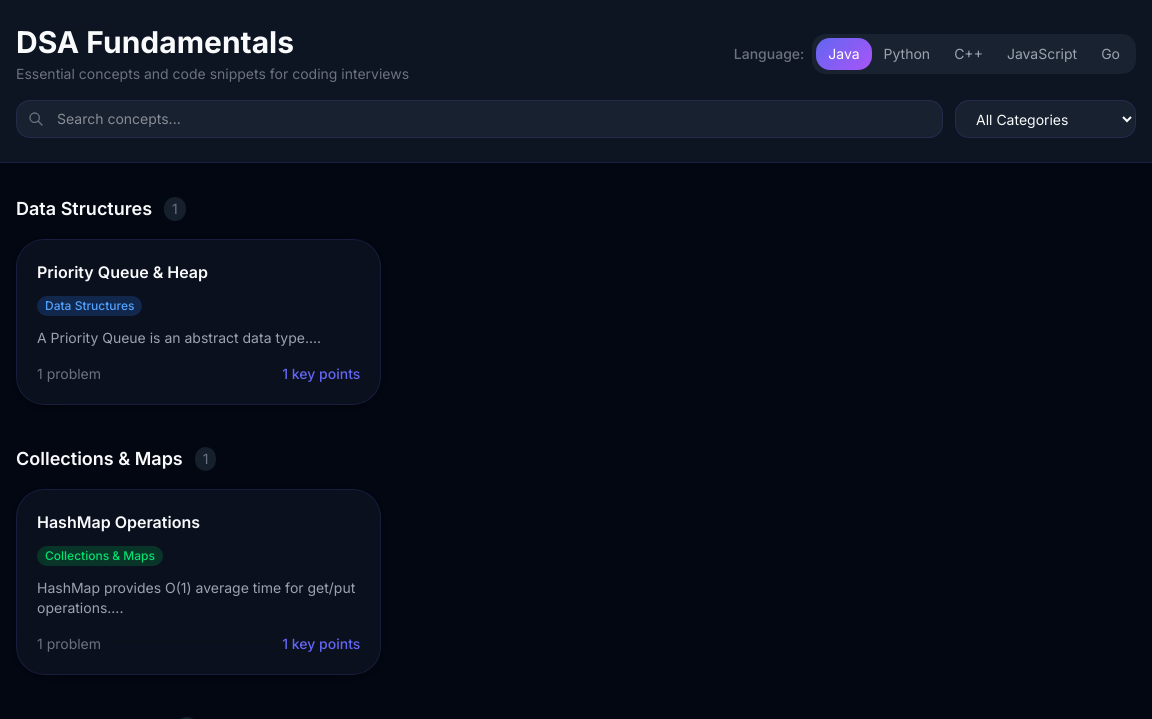
it: DSAFundamentalsClient › filters concepts by category
Select "Data Structures" in the dropdown: (1046, 119) [955,100,1136,138]
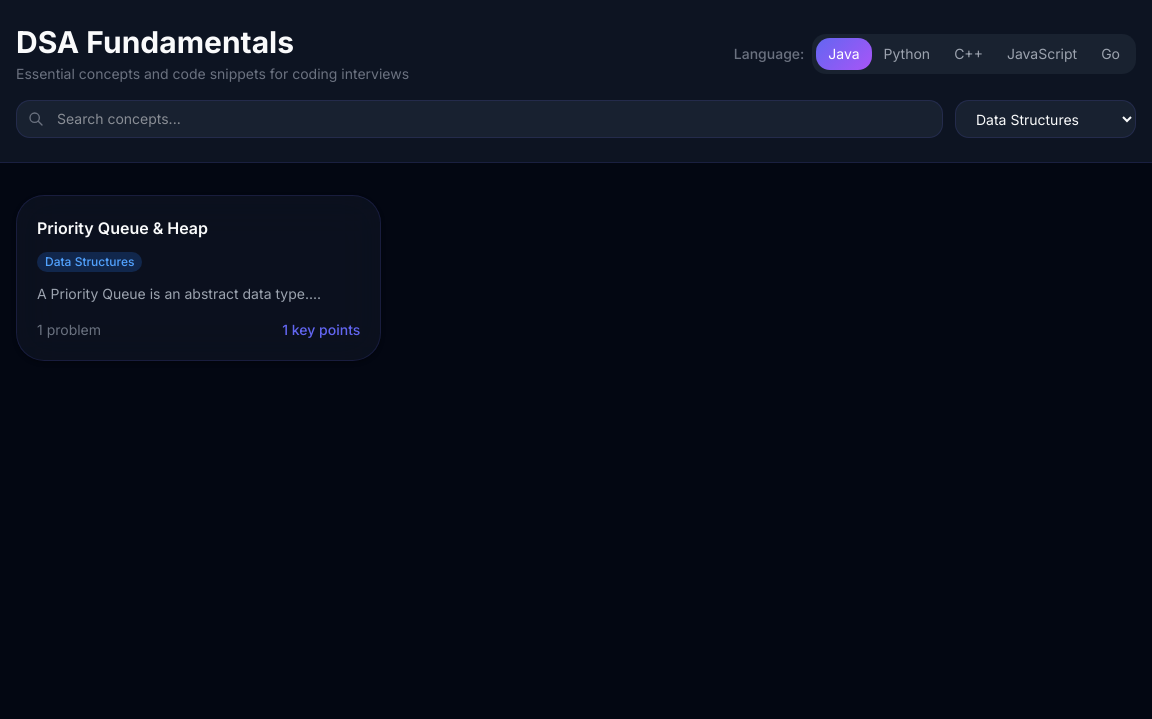
Expected: the heading "Priority Queue & Heap" is shown, [37,216,208,240]
Expected: the link "HashMap Operations" is gone
